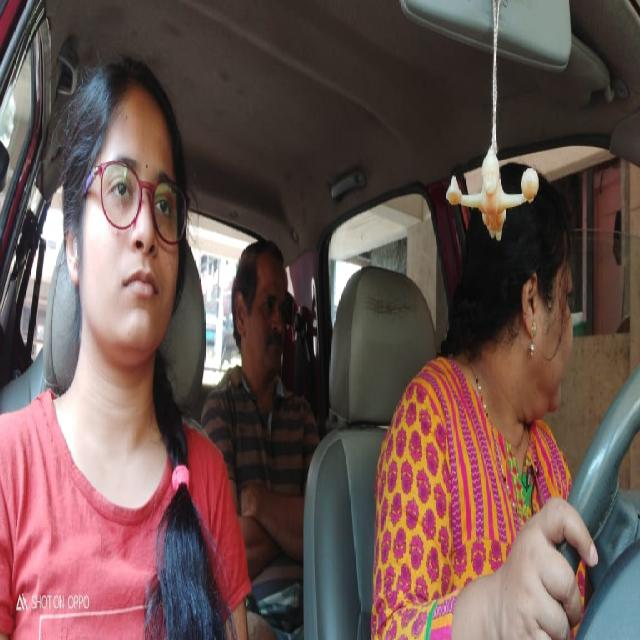LeftRight: (473, 227, 581, 416)
person: (58, 47, 185, 374), (232, 222, 290, 384)
